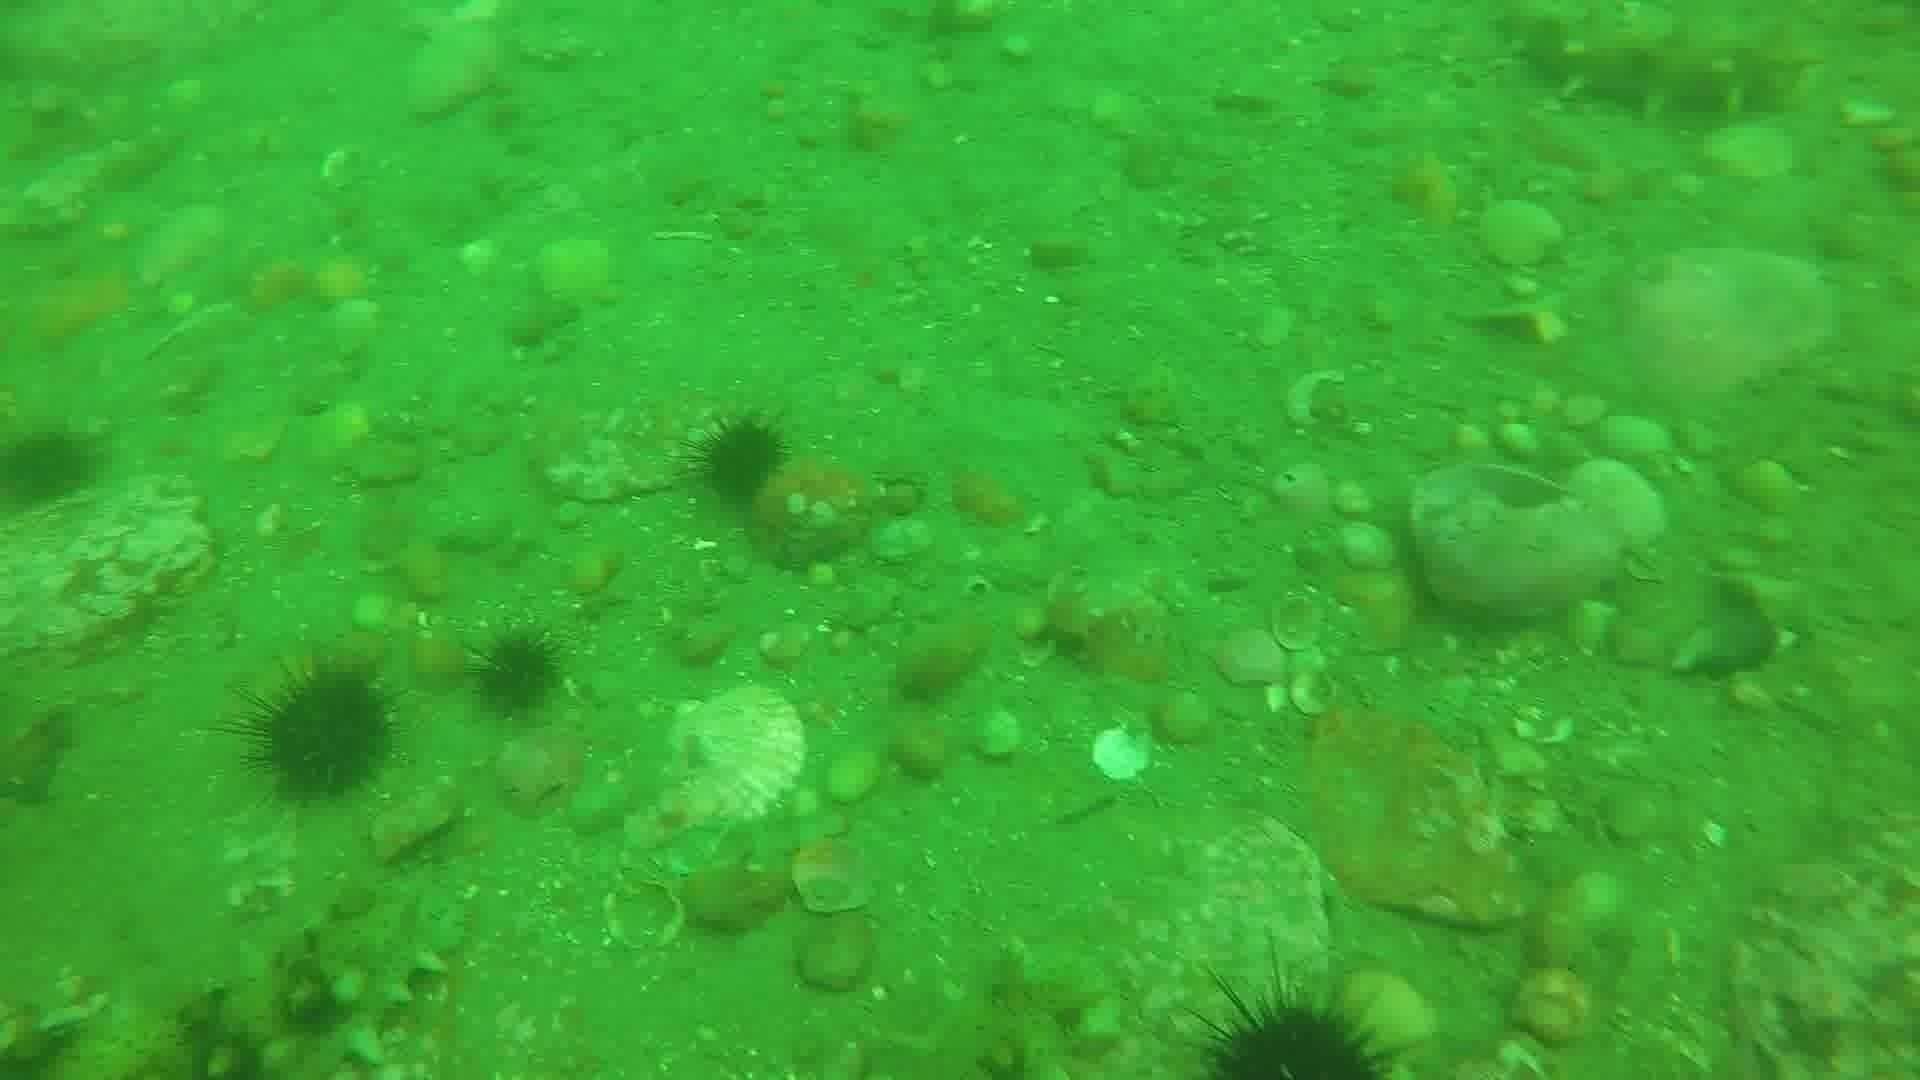echinus: (236, 659, 402, 806), (1185, 980, 1400, 1077), (684, 410, 794, 512), (467, 626, 568, 723), (3, 423, 103, 516)
holothurian: (171, 876, 471, 1075), (1495, 5, 1811, 128), (858, 952, 1127, 1077)
scallop: (659, 683, 812, 832)
